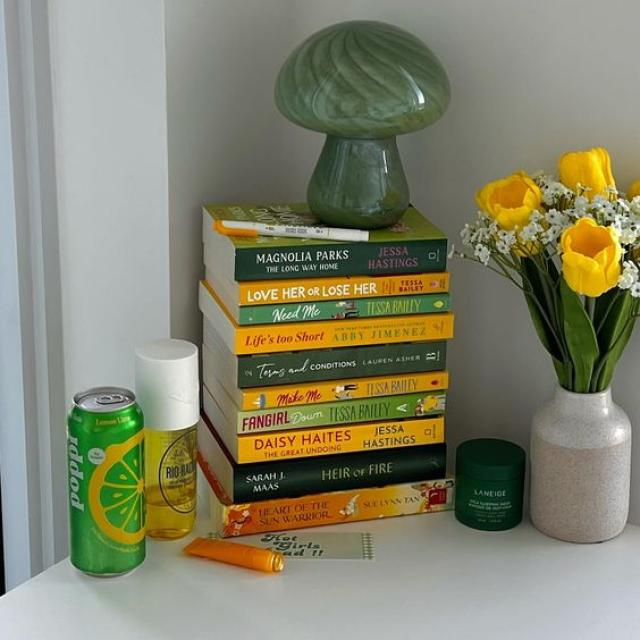book: (221, 480, 450, 537), (228, 444, 445, 502), (236, 416, 444, 463), (218, 390, 445, 433), (237, 343, 446, 388), (234, 238, 445, 282), (222, 314, 453, 354), (226, 371, 448, 410), (221, 273, 448, 305), (236, 293, 450, 325)
flowers: (461, 148, 639, 542)
